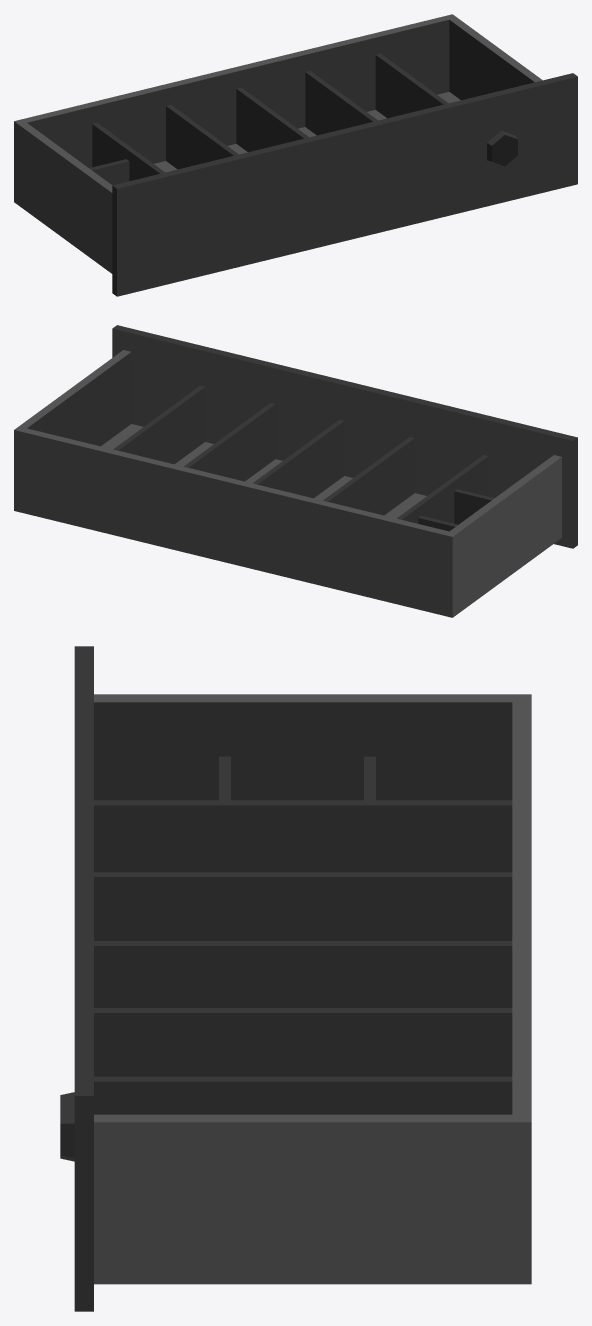
The model's file is cash_register_acc.obj.
3 renders of one model, top to bottom at view 1: azimuth 30°, elevation 25°; view 2: azimuth 150°, elevation 25°; view 3: azimuth 270°, elevation 25°, orthographic. The views are drawn at different scales.
Visible parts, largest first — view 1: cash_register_acc; view 2: cash_register_acc; view 3: cash_register_acc.
Part boxes in pixels (x1,y1,x2,y2): cash_register_acc: (14,14,577,296); cash_register_acc: (14,325,577,617); cash_register_acc: (60,646,531,1311).
Size of the model in its own units: 0.2332 by 0.0521 by 0.1033.
